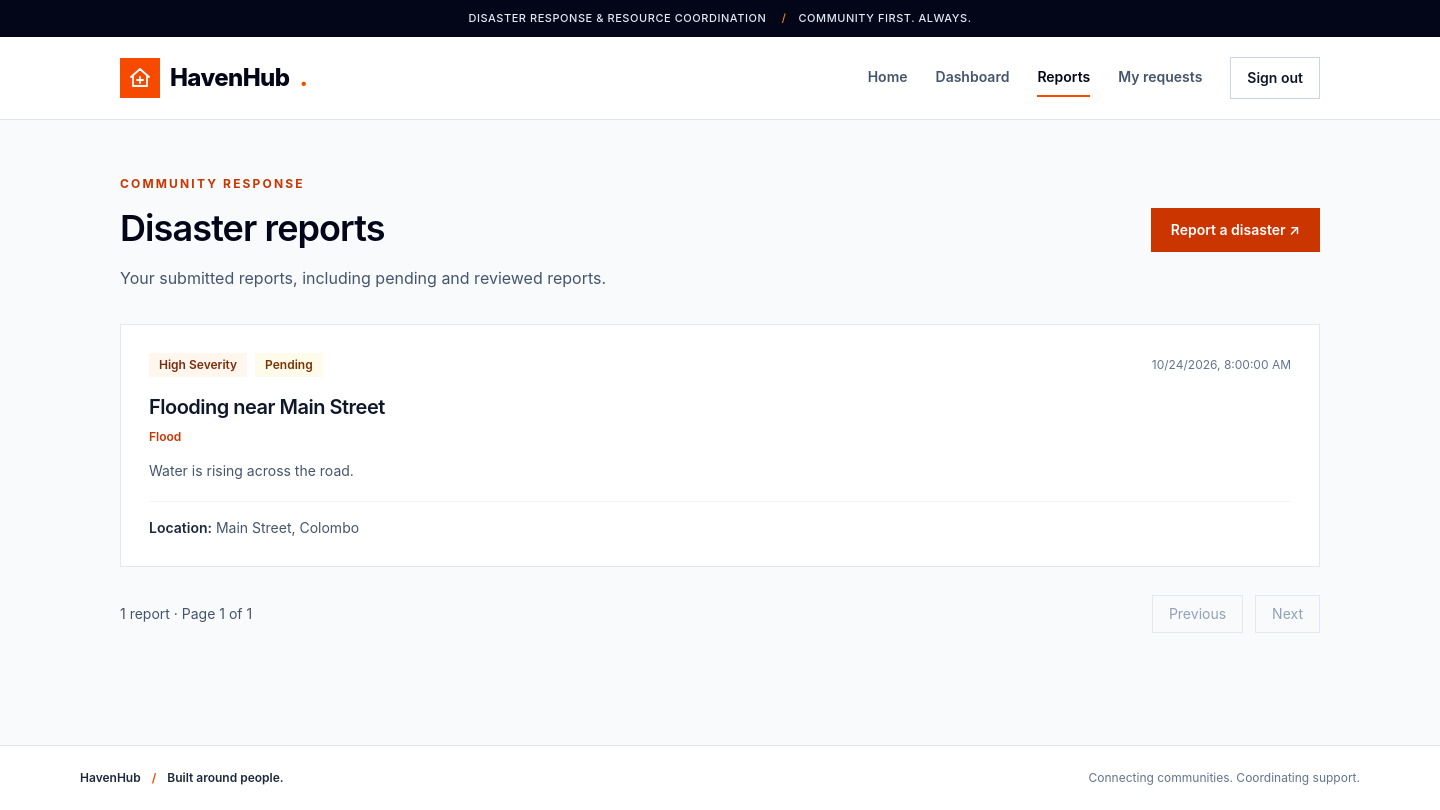
Scenario: loads the list and opens an individual report with its full details
Expected: the link "Report a disaster ↗" is shown, x1=1151 y1=208 x2=1320 y2=252
Click the link "Flooding near Main Street": (267, 406) x1=149 y1=394 x2=385 y2=418
(page scrolled)
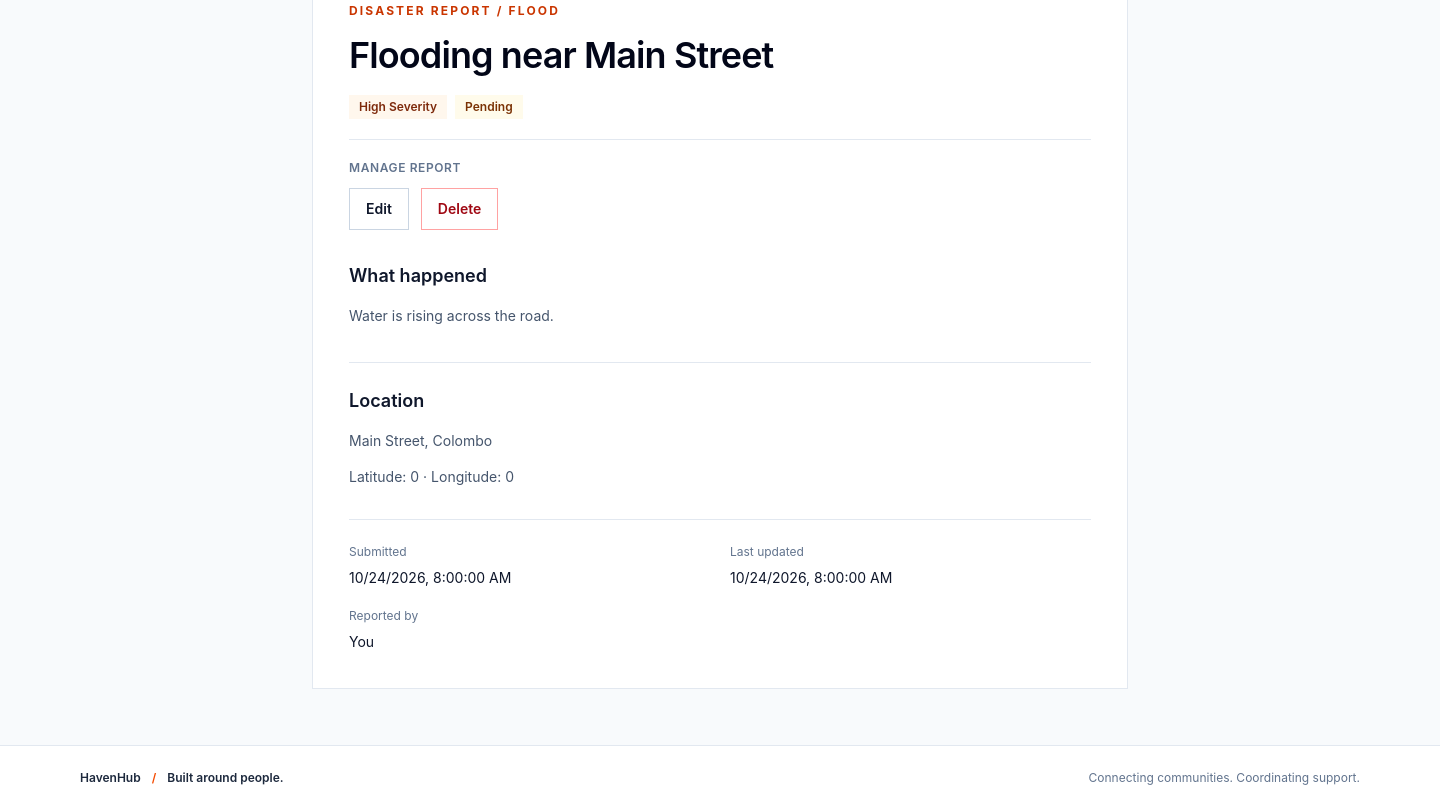
Expected: the heading "Flooding near Main Street" is shown, x1=349 y1=32 x2=773 y2=76
Expected: the text "Latitude: 0 · Longitude: 0" is shown, x1=349 y1=468 x2=514 y2=484
